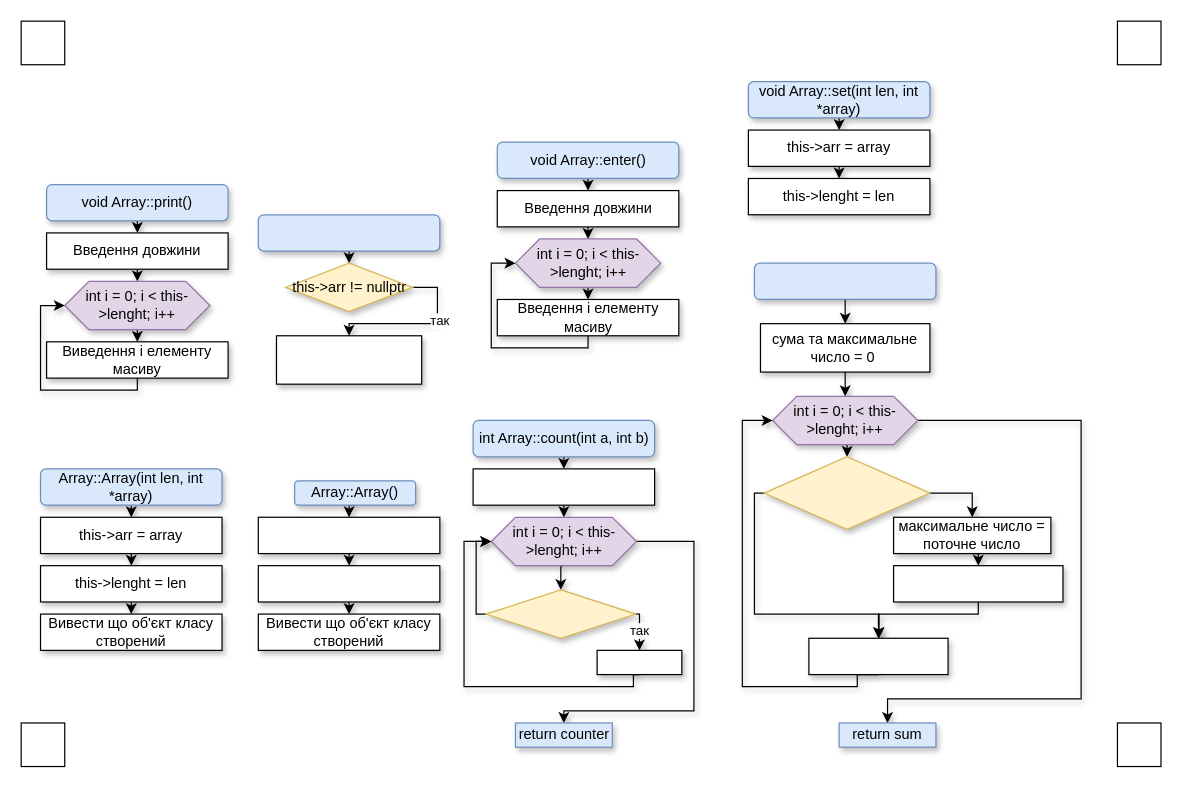
Image size: 1182x788. Some labels were removed from this diagram. The shapes that lost their labels are listed below. From the top down, each one's centre as x and y in pixels, then its label:
At pixel 349 234: "Array::~Array()".
At pixel 845 282: "int Array::sumAfterLastMax()".
At pixel 349 361: "довжина = 0, видаляємо масив".
At pixel 564 488: "counter = 0".
At pixel 847 494: "поточне число >= максимальне число".
At pixel 349 536: "Вказівник на масив = nullptr".
At pixel 349 585: "Довжина = 0".
At pixel 979 585: "сума = 0 - поточне число".
At pixel 561 615: "a >= поточне число <= b".
At pixel 640 663: "counter++".
At pixel 879 657: "сума += поточне число".
